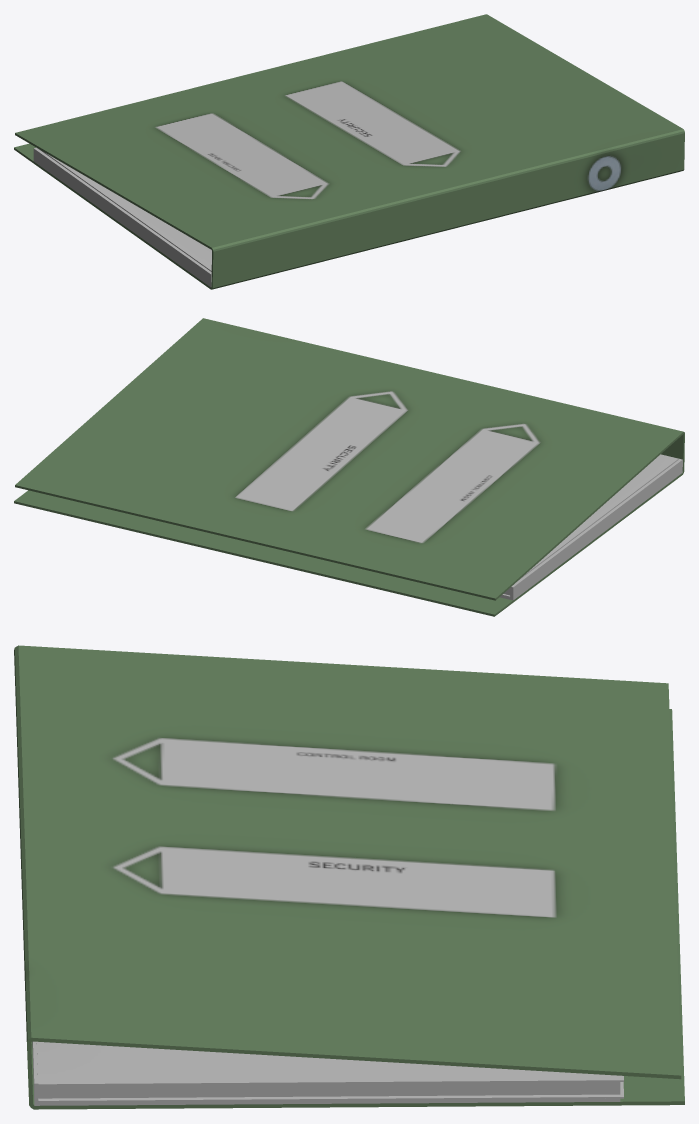
Rendered from FileFolderA.fbx.
3 views of the same model, one above another, from view 1: azimuth 30°, elevation 25°; view 2: azimuth 150°, elevation 25°; view 3: azimuth 270°, elevation 25° (orthographic). The views are drawn at different scales.
Visible parts, largest first — view 1: FileFolderA; view 2: FileFolderA; view 3: FileFolderA.
Part boxes in pixels (x1,y1,x2,y2): FileFolderA: (14, 14, 684, 289); FileFolderA: (14, 318, 684, 616); FileFolderA: (14, 645, 684, 1109).
Size of the model in its own units: 23.36 by 1.96 by 16.62.
